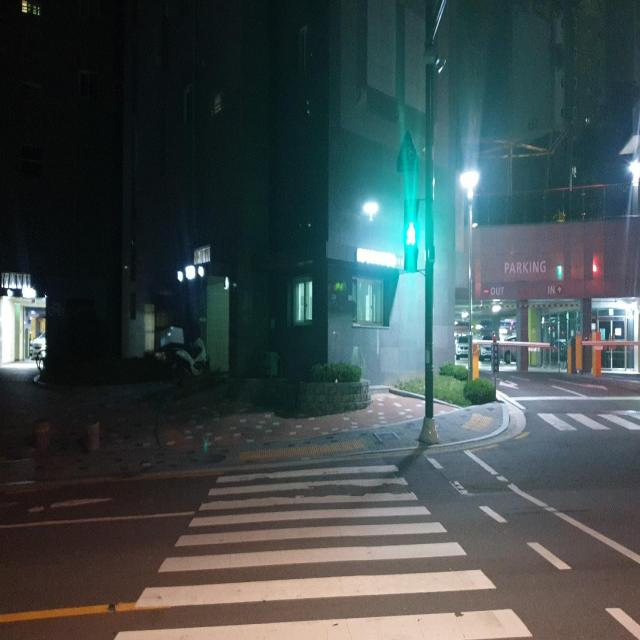초록불: (404, 199, 418, 268)
횡단보도: (113, 463, 535, 639), (520, 402, 640, 436)
